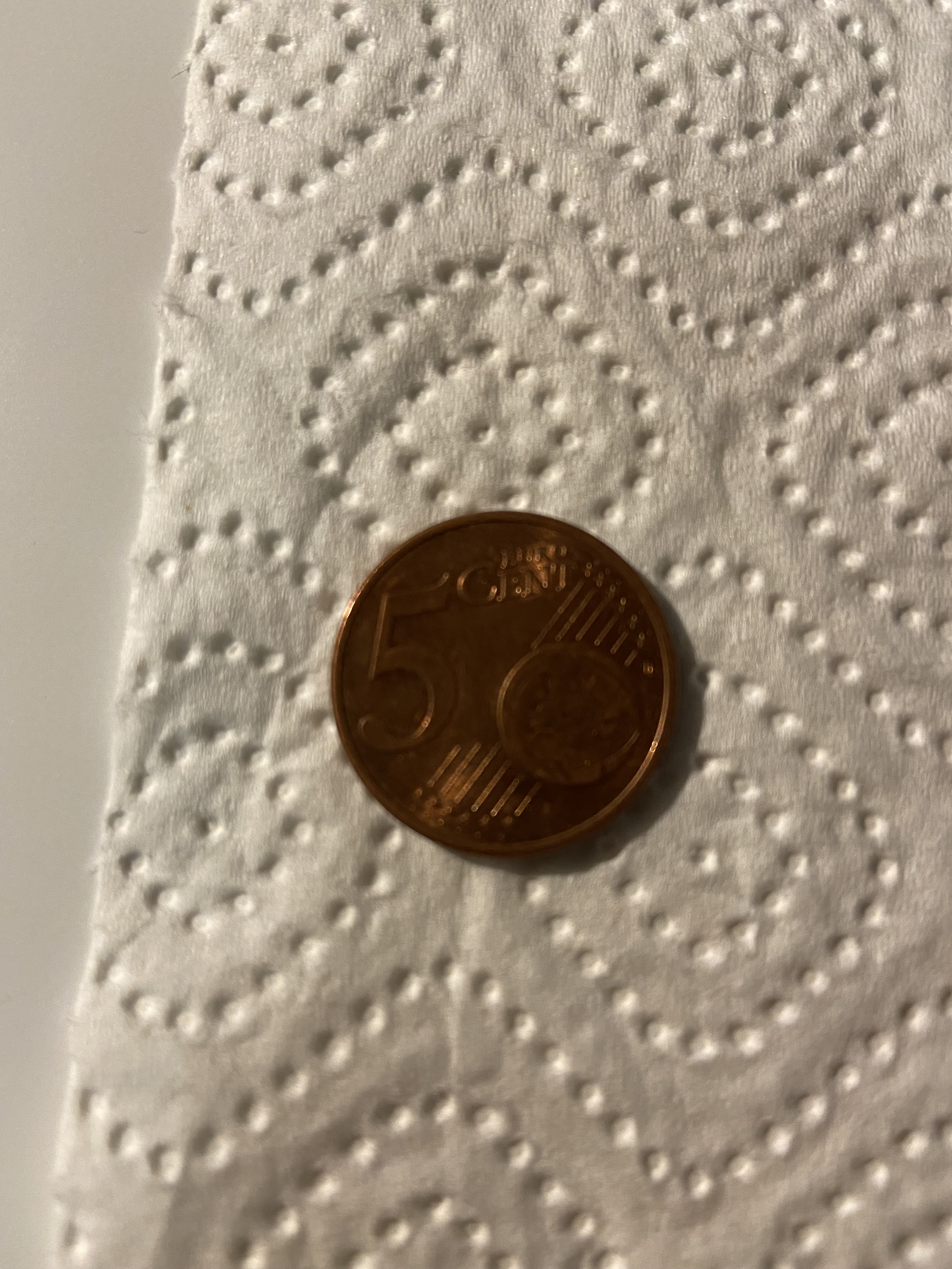20 cent: (331, 497, 677, 870)
